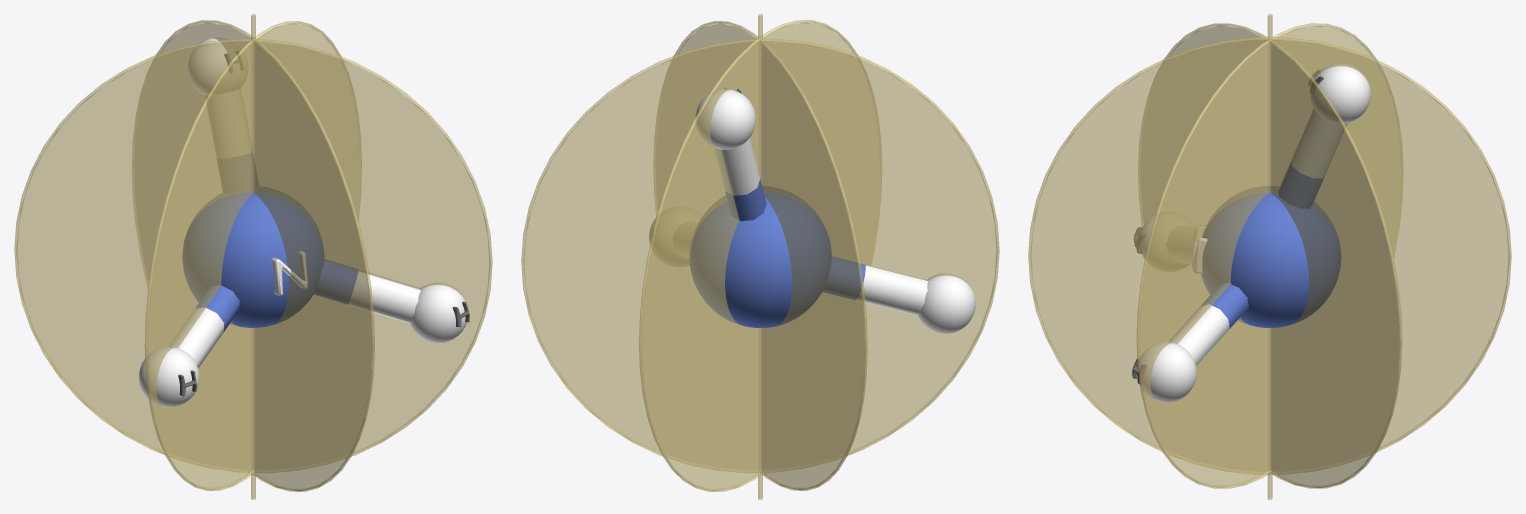
3 renders of one model, left to right at view 1: azimuth 30°, elevation 25°; view 2: azimuth 150°, elevation 25°; view 3: azimuth 270°, elevation 25°, orthographic.
Visible parts, largest first — view 1: Circle.002, Circle.001, Circle, NH3, Cylinder; view 2: Circle, Circle.001, Circle.002, NH3, Cylinder; view 3: Circle.001, Circle, Circle.002, NH3, Cylinder.
Part boxes in pixels (left/top/right/bottom): Circle.002: left=14, top=38, right=492, bottom=472; Circle.001: left=132, top=20, right=374, bottom=491; Circle: left=144, top=21, right=361, bottom=490; NH3: left=139, top=38, right=469, bottom=407; Cylinder: left=251, top=14, right=255, bottom=499; Circle: left=521, top=38, right=999, bottom=472; Circle.001: left=639, top=20, right=881, bottom=491; Circle.002: left=653, top=21, right=867, bottom=490; NH3: left=649, top=88, right=975, bottom=333; Cylinder: left=758, top=14, right=762, bottom=499; Circle.001: left=1028, top=37, right=1511, bottom=474; Circle: left=1138, top=23, right=1402, bottom=488; Circle.002: left=1136, top=23, right=1403, bottom=488; NH3: left=1132, top=63, right=1370, bottom=402; Cylinder: left=1267, top=14, right=1272, bottom=499.
Bounding box in the file's own units: 211 × 281 × 255.
